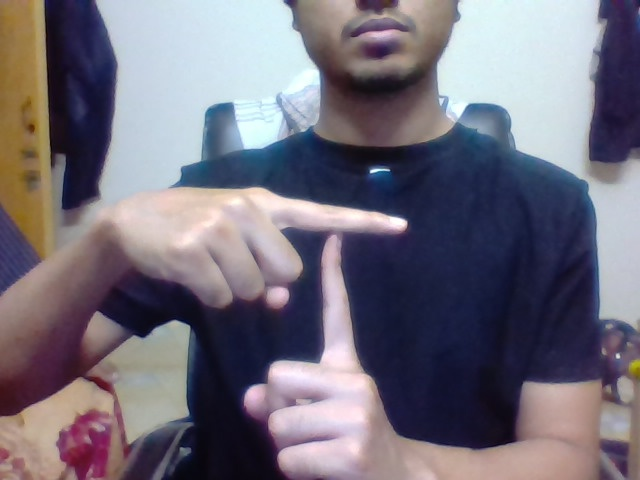T: (307, 189, 415, 331)
